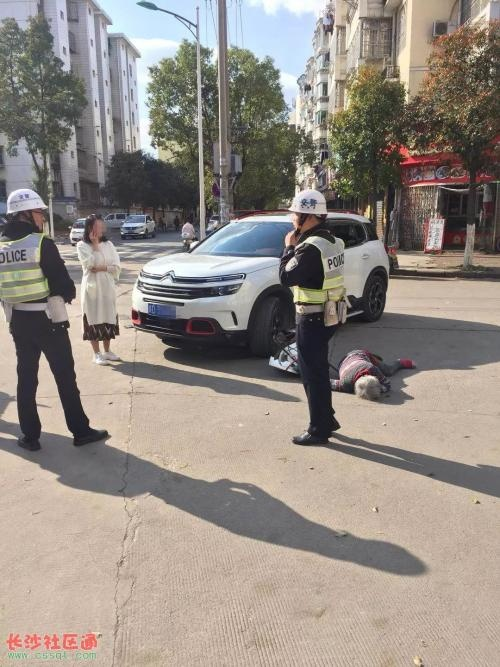falling: (325, 333, 423, 413)
